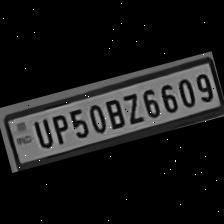0: (82, 99, 110, 136), (172, 74, 197, 109)
5: (63, 105, 92, 142)
6: (136, 84, 162, 120), (154, 78, 180, 114)
9: (189, 68, 216, 104)
B: (101, 94, 127, 131)
P: (46, 110, 73, 146)
U: (27, 114, 55, 152)
Z: (118, 89, 146, 127)
